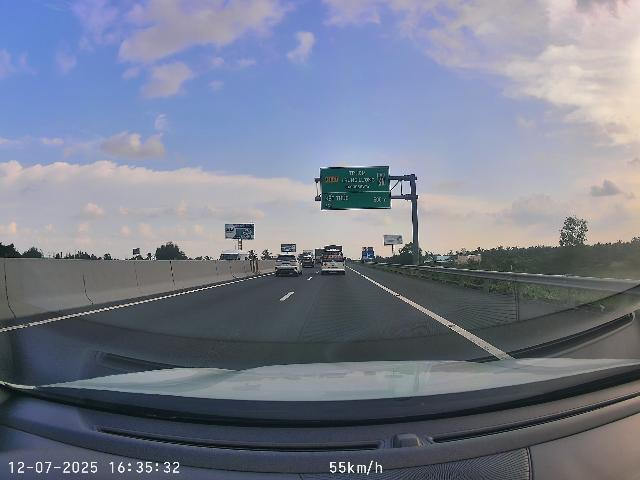438-ket-thuc-duong-cao-toc: (377, 173, 386, 186)
